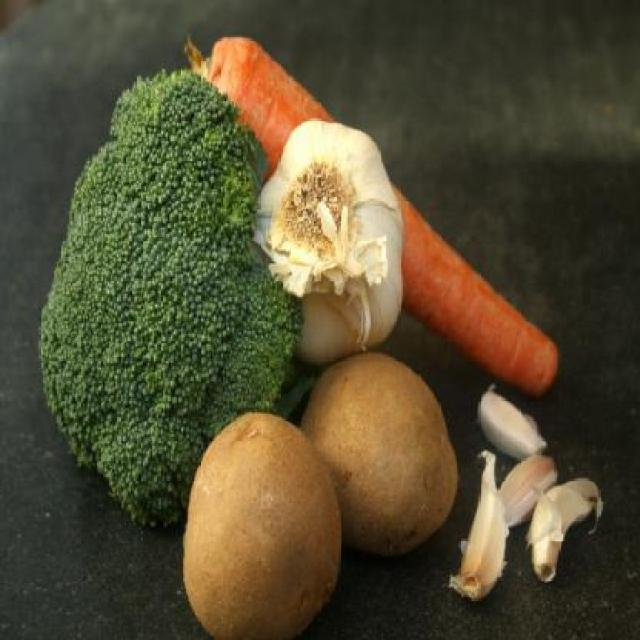Carrot: (183, 32, 562, 403)
